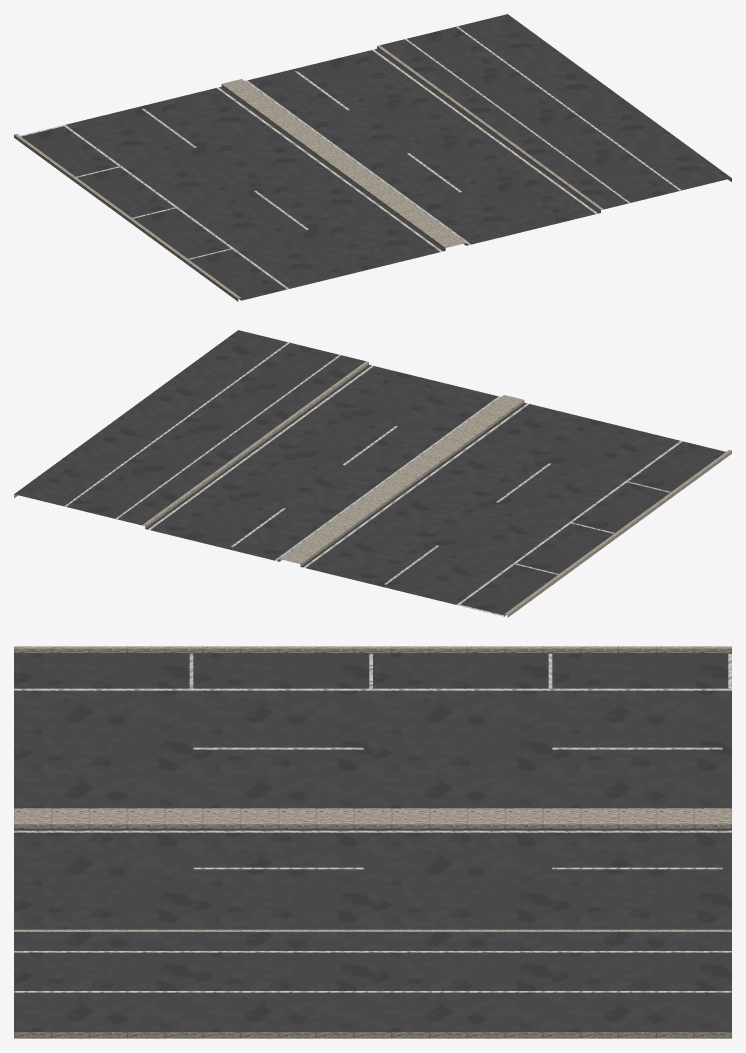
The model's file is SM_Viale_Italia_Strada.fbx.
The picture shows the model from 3 angles, top to bottom: view 1: azimuth 30°, elevation 25°; view 2: azimuth 150°, elevation 25°; view 3: azimuth 270°, elevation 25°; orthographic projection. The views are drawn at different scales.
Visible parts, largest first — view 1: SM_Viale_Italia_Strada; view 2: SM_Viale_Italia_Strada; view 3: SM_Viale_Italia_Strada.
Part boxes in pixels (box(x1,y1,x2,y2)): SM_Viale_Italia_Strada: box(14, 14, 731, 301); SM_Viale_Italia_Strada: box(14, 330, 731, 617); SM_Viale_Italia_Strada: box(14, 646, 731, 1038).
Size of the model in its own units: 2415 by 1900 by 20.5.
3 materials, 3 textured.
